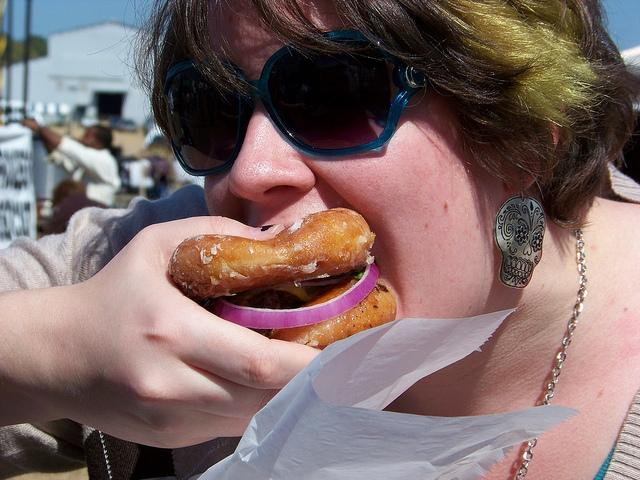onion: (198, 262, 380, 329), (248, 276, 344, 291)
